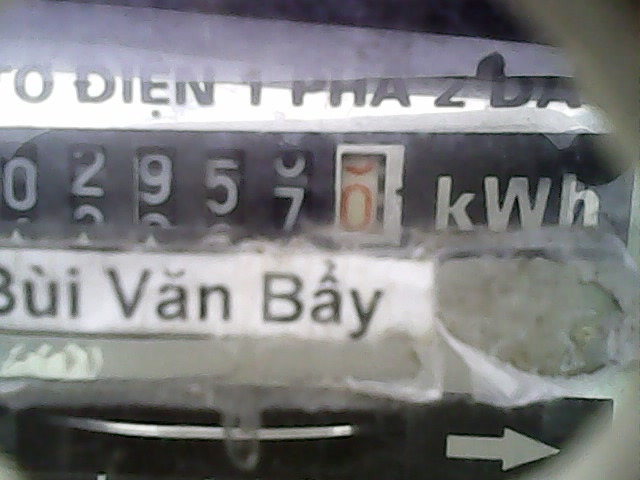phy_plate: (1, 129, 417, 262)
